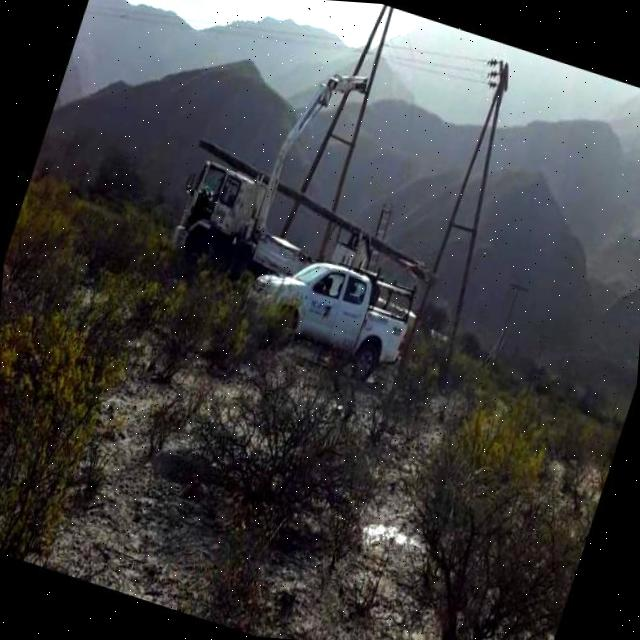Broken Pole: (195, 135, 437, 280)
